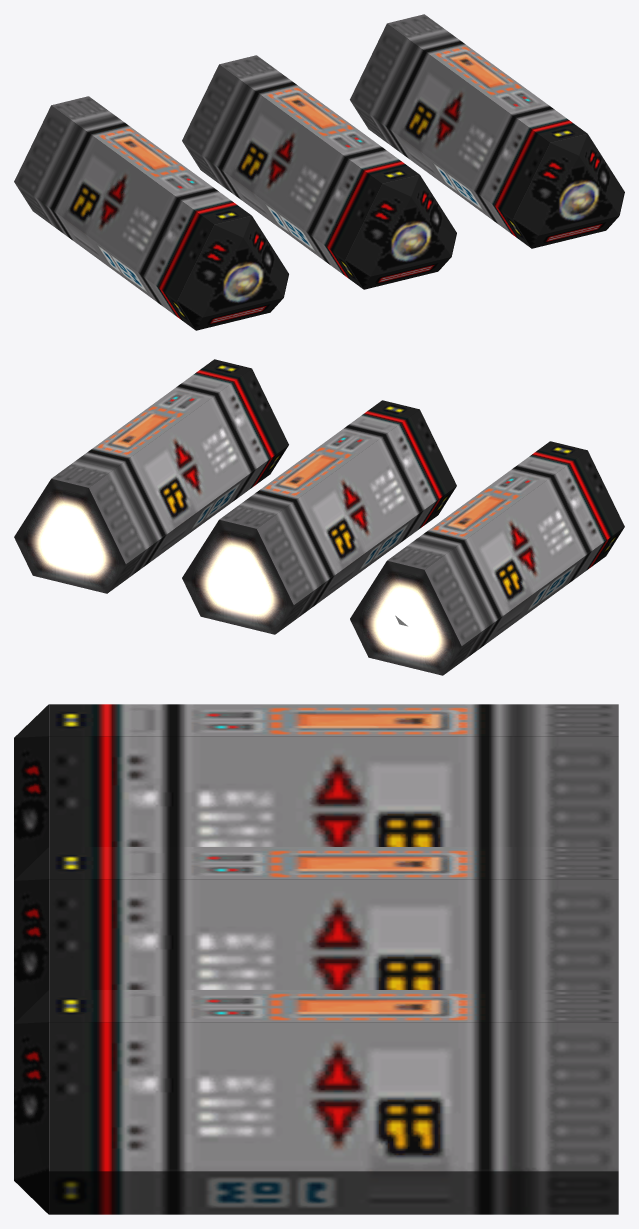
The model's file is ksh_longrangetorpedo.dae.
3 views of the same model, one above another, from view 1: azimuth 30°, elevation 25°; view 2: azimuth 150°, elevation 25°; view 3: azimuth 270°, elevation 25° (orthographic). The views are drawn at different scales.
Visible parts, largest first — view 1: MULT[Root_mesh]_LOD[0], MULT[Root_mesh]_LOD[1], MULT[Root_mesh]_LOD[2]; view 2: MULT[Root_mesh]_LOD[1], MULT[Root_mesh]_LOD[2], MULT[Root_mesh]_LOD[0]; view 3: MULT[Root_mesh]_LOD[2], MULT[Root_mesh]_LOD[1], MULT[Root_mesh]_LOD[0].
Boxes of the visible parts, x1,y1,x2,y2 form: MULT[Root_mesh]_LOD[0]: [14, 96, 288, 330]; MULT[Root_mesh]_LOD[1]: [182, 55, 456, 289]; MULT[Root_mesh]_LOD[2]: [350, 14, 624, 248]; MULT[Root_mesh]_LOD[1]: [182, 400, 456, 634]; MULT[Root_mesh]_LOD[2]: [14, 359, 288, 593]; MULT[Root_mesh]_LOD[0]: [350, 441, 624, 675]; MULT[Root_mesh]_LOD[2]: [14, 990, 618, 1214]; MULT[Root_mesh]_LOD[1]: [14, 847, 618, 1023]; MULT[Root_mesh]_LOD[0]: [14, 704, 618, 880].
Bounding box in the file's own units: 14.31 × 3.1 × 9.69.
Materials: 4 (4 with a texture image).
